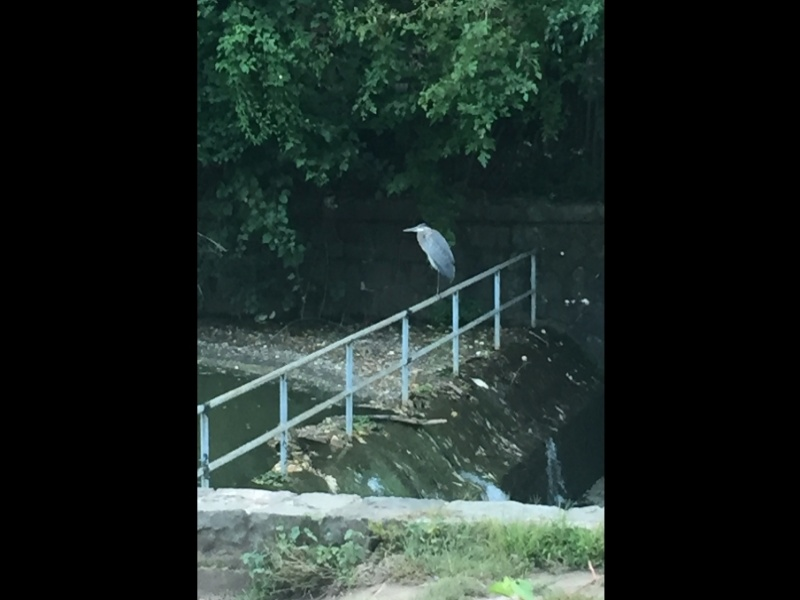heron: (404, 222, 458, 284)
